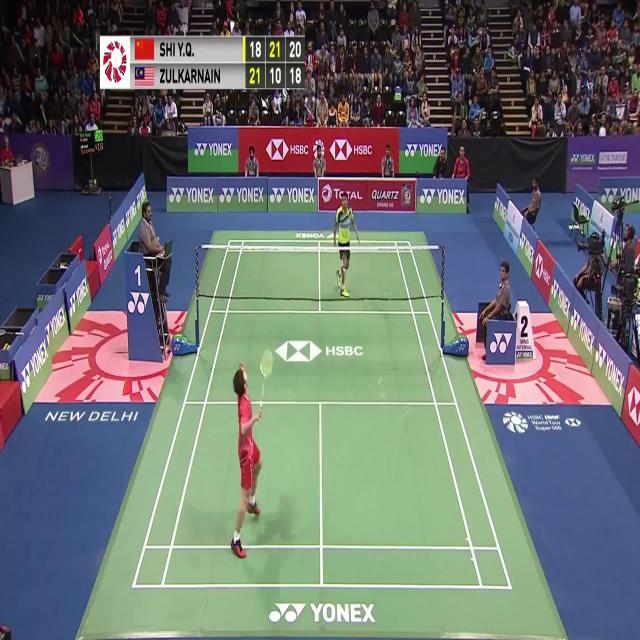Shuttlecock: (228, 22, 235, 33)
